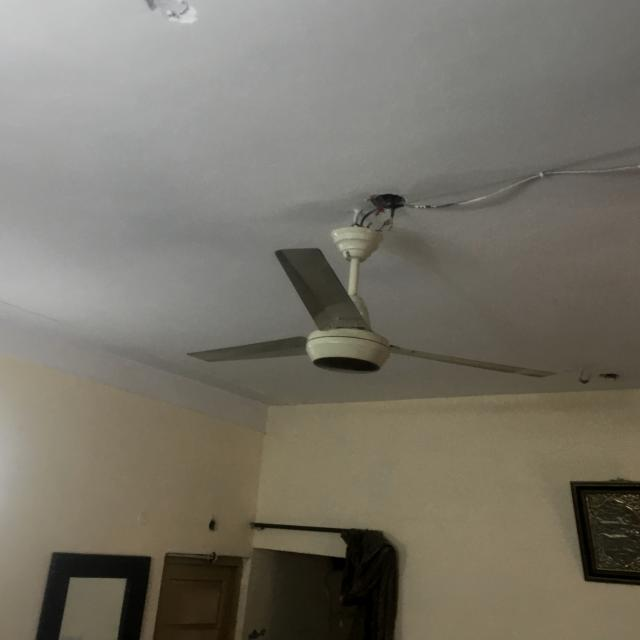off: (178, 242, 564, 393)
